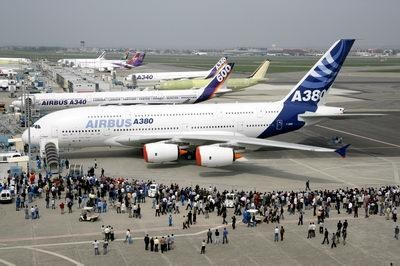airplane: (19, 36, 378, 164)
